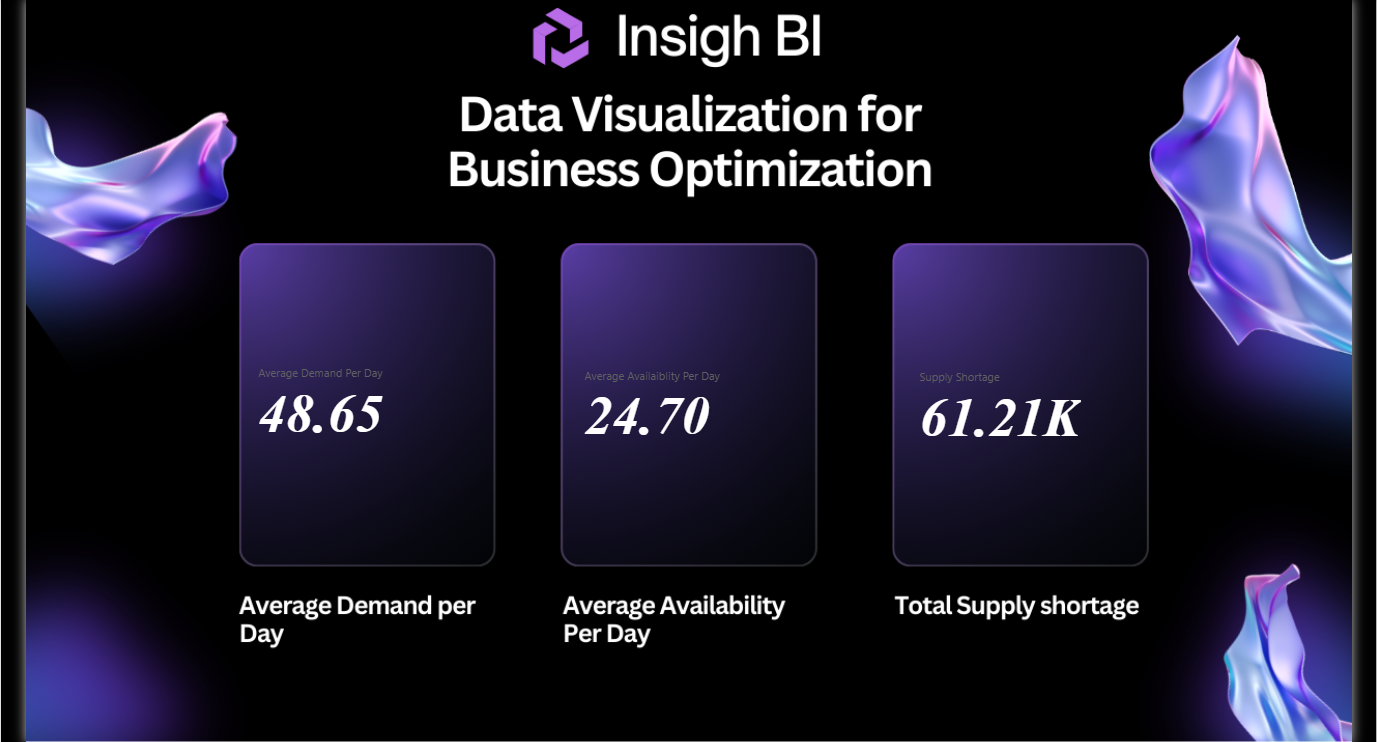

Layout of this report page (visuals, bound fields, positions):
{"tool":"powerbi","page":{"name":"Page 1","canvas":[1920,1080],"ordinal":0},"visuals":[{"type":"cardVisual","fields":{"Data":["Measures Table.Average Demand Per Day"]},"box":[320,382.5,332.5,417.5],"z":0},{"type":"cardVisual","fields":{"Data":["Measures Table.Average Availaiblity Per Day"]},"box":[792.5,385,332.5,417.5],"z":1},{"type":"cardVisual","fields":{"Data":["Measures Table.Supply Shortage"]},"box":[1277.5,387.5,332.5,417.5],"z":2}]}

Visuals, with their boxes on the page's 1920x1080 design canvas (x1, y1, x2, y2). These are canvas units, not pixel positions in the 1377x742 screenshot, which may show the page scaled, cropped or inside an application window:
cardVisual - Measures Table.Average Demand Per Day: (320, 382, 652, 800)
cardVisual - Measures Table.Average Availaiblity Per Day: (792, 385, 1125, 802)
cardVisual - Measures Table.Supply Shortage: (1278, 388, 1610, 805)
